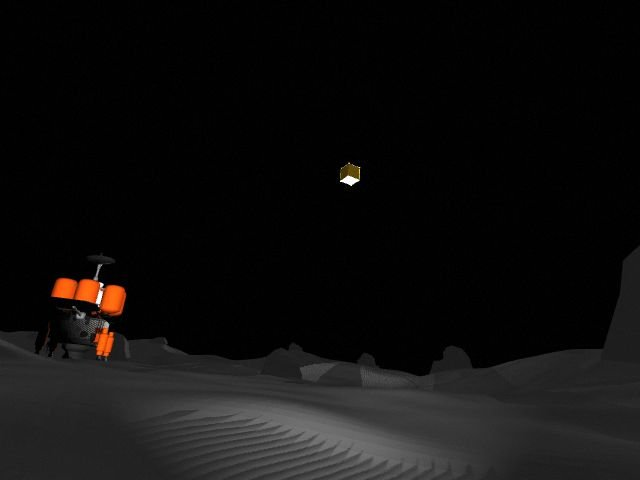homebase: (34, 252, 129, 369)
